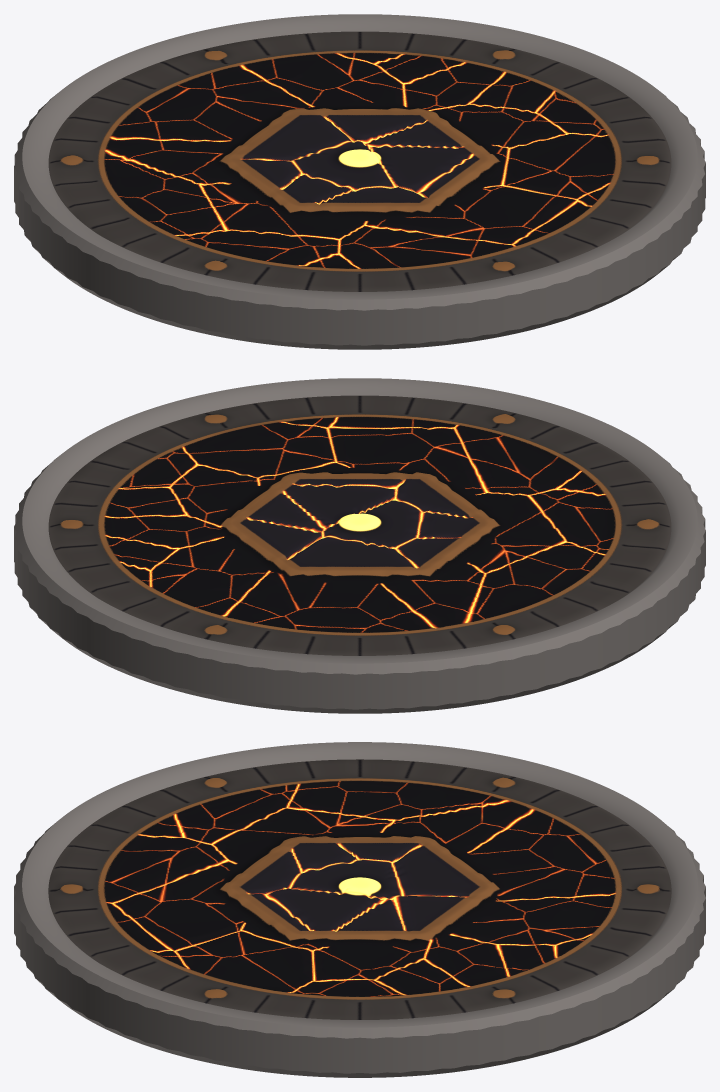
File: coin_obsidian.glb
3 views of the same model, one above another, from view 1: azimuth 30°, elevation 25°; view 2: azimuth 150°, elevation 25°; view 3: azimuth 270°, elevation 25° (orthographic).
Visible parts, largest first — view 1: coin_obsidian; view 2: coin_obsidian; view 3: coin_obsidian.
Boxes of the visible parts, x1=… form: coin_obsidian: x1=14, y1=14, x2=705, y2=349; coin_obsidian: x1=14, y1=378, x2=705, y2=713; coin_obsidian: x1=14, y1=742, x2=705, y2=1077.
Bounding box in the file's own units: 0.9992 × 0.081 × 0.9992.
3 materials, 2 textured.
